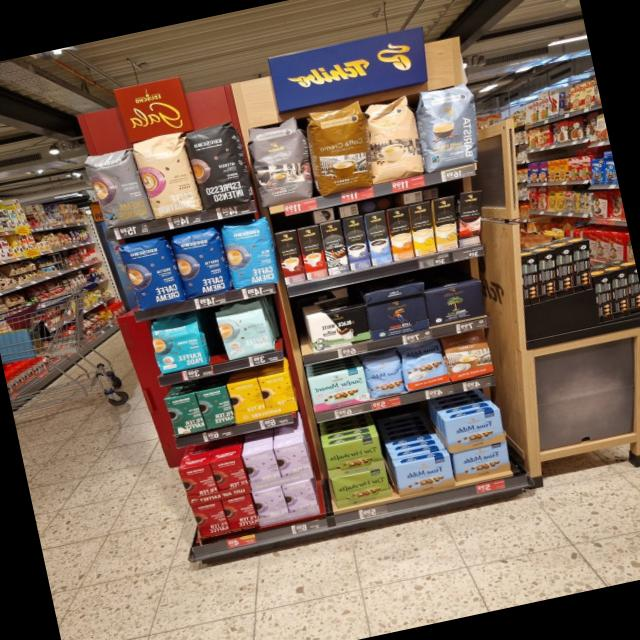BM Gemahlen: (423, 279, 489, 327)
BW Gemahlen: (304, 304, 372, 354)
Barista CC: (411, 81, 488, 173)
CC Mild: (360, 92, 428, 184)
CC Vollmundig: (441, 328, 494, 383)
CC Vollmundig 36 Pads: (301, 100, 378, 196)
Espresso Aromatisch: (242, 112, 316, 208)
FM 36 Pads: (396, 338, 448, 391)
FM Bohne: (362, 354, 406, 399)
FM Gemahlen: (442, 408, 507, 453), (392, 453, 456, 498), (451, 442, 512, 482)
Herzhatfe Mundig: (322, 434, 384, 479), (330, 466, 392, 509)
LG Gemahlen: (364, 294, 430, 340)
SM Gemahlen: (306, 364, 371, 414)
Simo CC Colombia: (459, 190, 481, 247)
Simo CCMild bigpack: (409, 200, 436, 256)
Simo CCVollmundig bigpack: (387, 205, 414, 261)
Simo Decaff: (433, 195, 458, 252)
Simo Es Brazil: (296, 224, 328, 280)
Simo Es Caramel: (274, 230, 306, 284)
Simo Es Elegant: (318, 220, 349, 275)
Simo Es Kraft: (343, 215, 370, 270)
Simo Es Vanilla: (364, 210, 392, 265)
